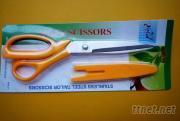scissor: (4, 33, 153, 85)
